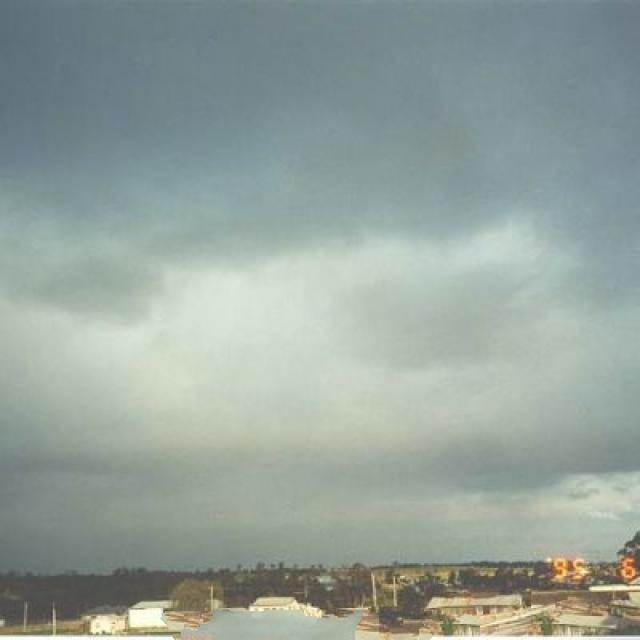Ns: (1, 142, 640, 477)
